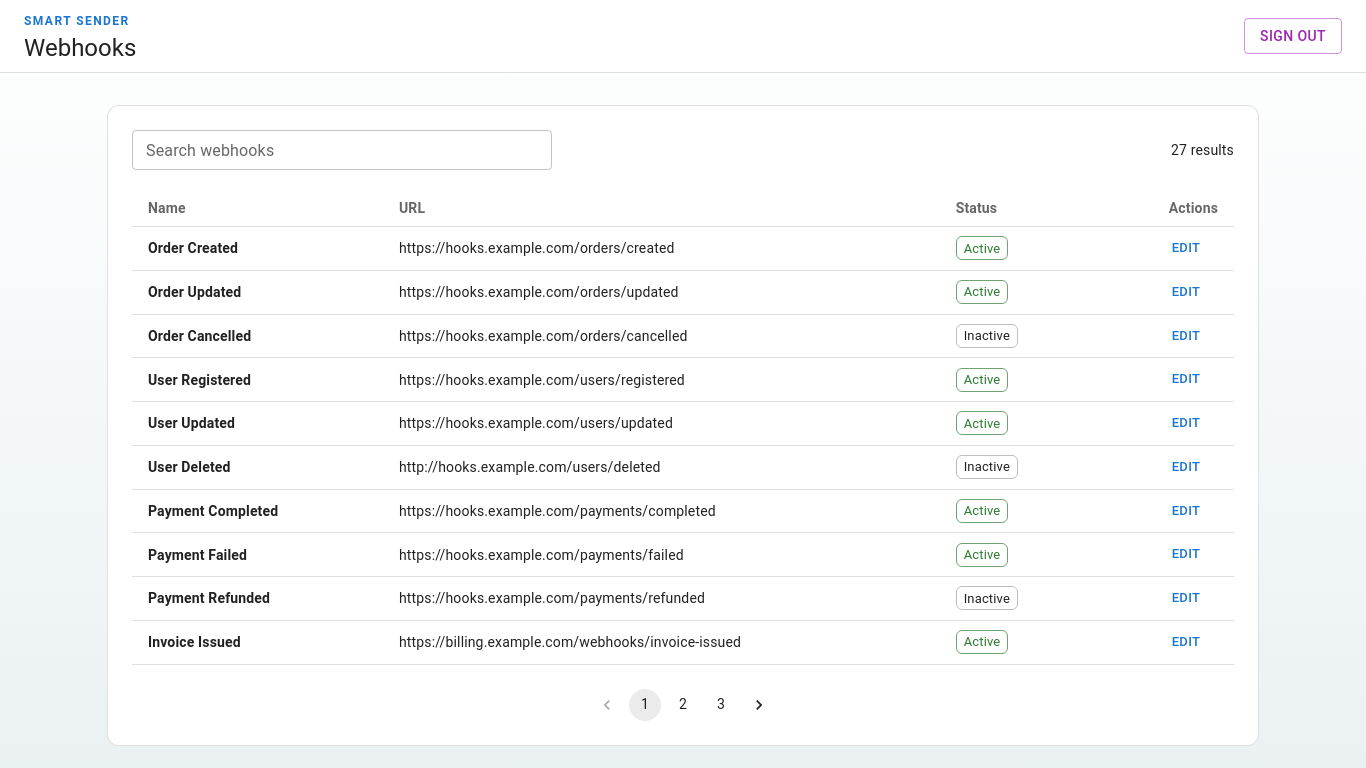
Scenario: WebhooksPage edit webhook › does not send PUT when Cancel is clicked
The image size is (1366, 768).
expect the text "Order Created" is shown: met, box [132,226,383,270]
Click the button with aria-label "Edit Order Created": (1186, 248) [1154,233,1218,264]
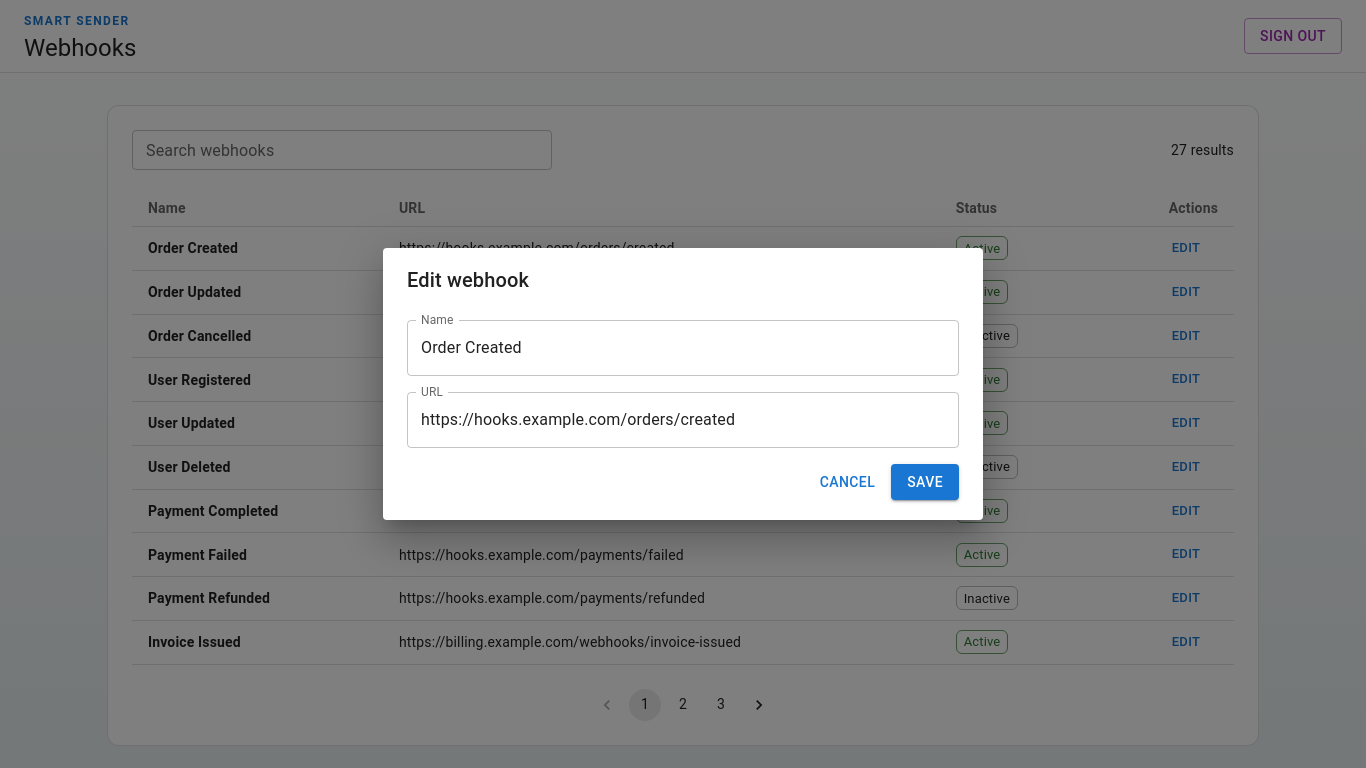
expect the field labelled "Name" is shown: met
Replace the text in the field labelled "Name" with "Should Not Persist": (683, 348) [407,320,959,376]
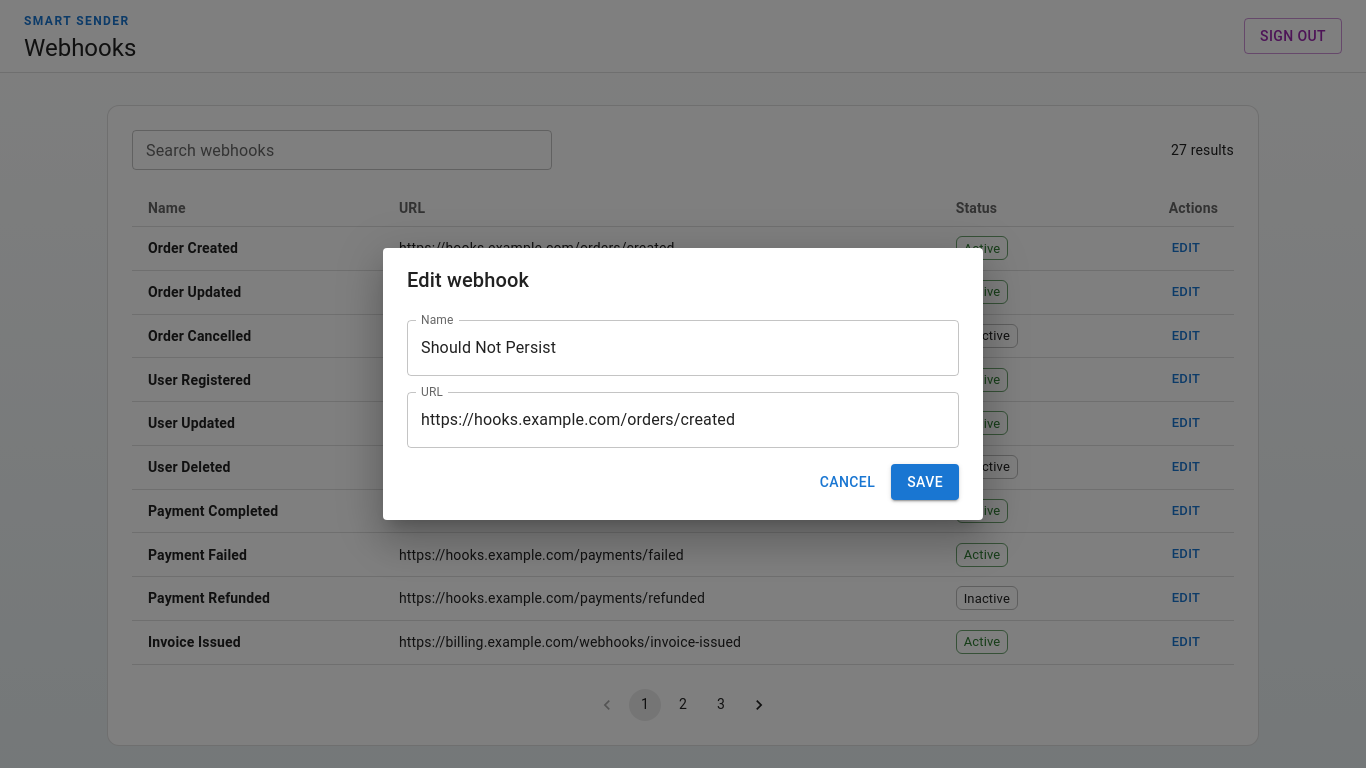
Click the button "Cancel": (847, 482) [812,464,883,500]
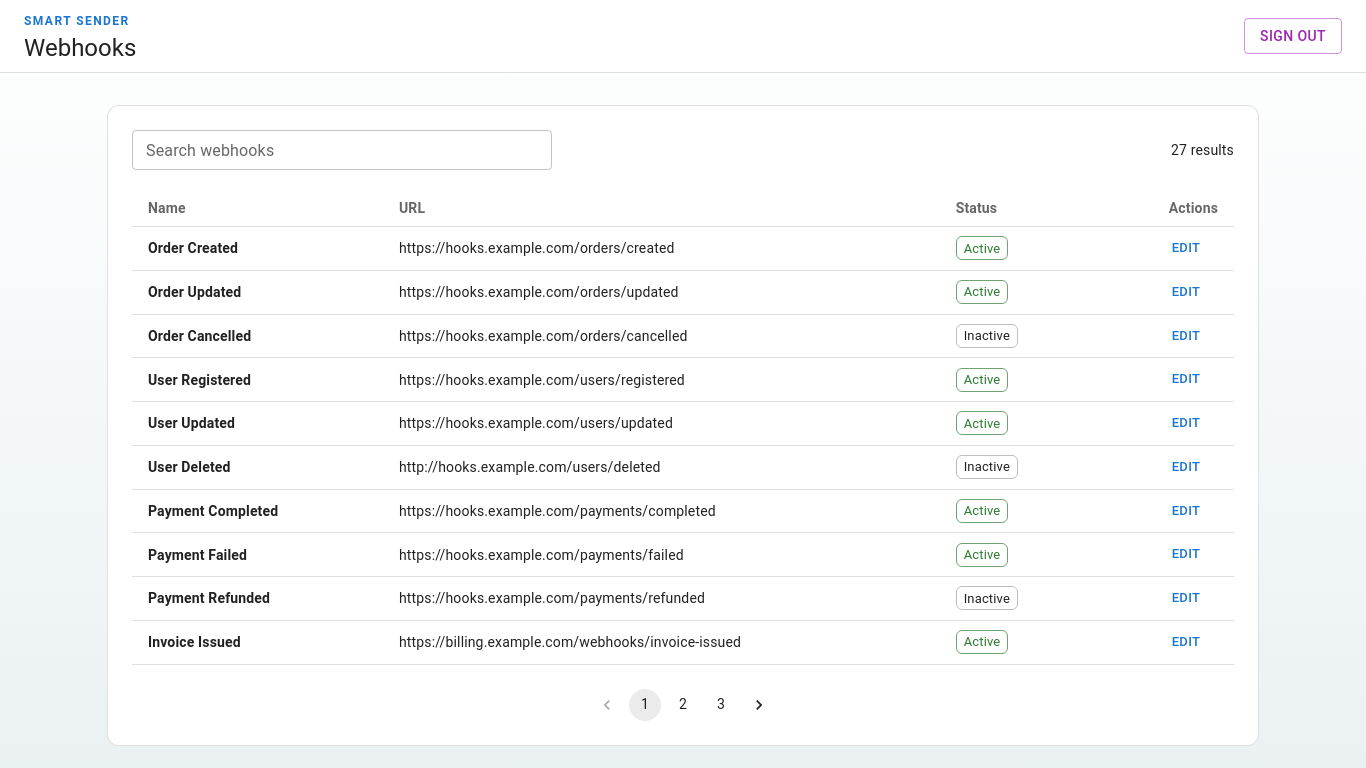
expect the text "Order Created" is shown: met, box [132,226,383,270]
expect the heading "Edit webhook" is gone: met
